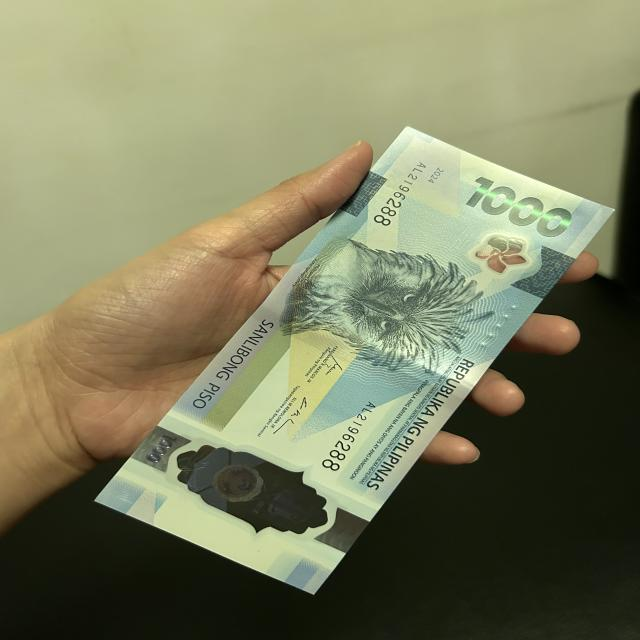clear_window: (170, 429, 341, 539)
eagle: (282, 247, 474, 369)
sampaguita: (477, 234, 533, 272)
